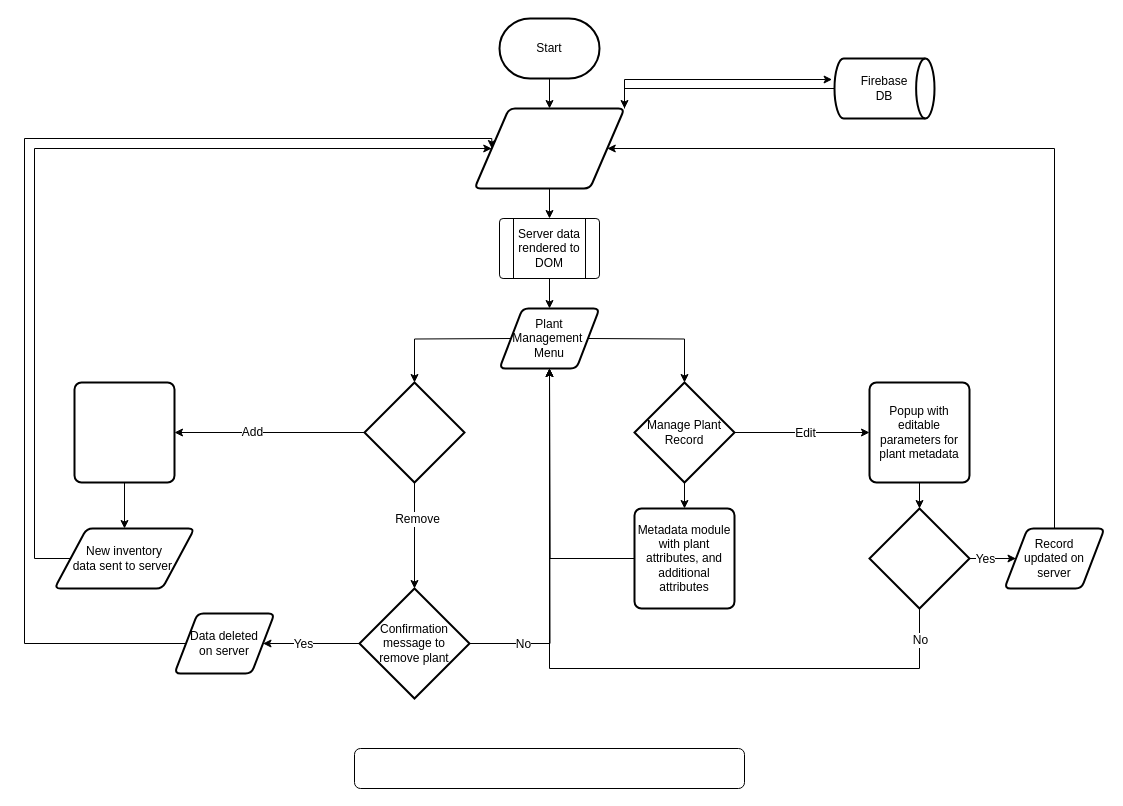
This 1123x806 diagram has some shape labels left out. Here are the shapes that lost their labels. From the top down, the centre of each, then its label:
At pixel 549 148: "Inventory loaded from server based on authenticated user".
At pixel 124 432: "name, type, image, watering time, description -> accepted".
At pixel 414 432: "Add / Remove Plant".
At pixel 919 558: "Save new details?".
At pixel 549 768: "IB CS Internal Assessment - Inventory System - Finn Lestrange".
